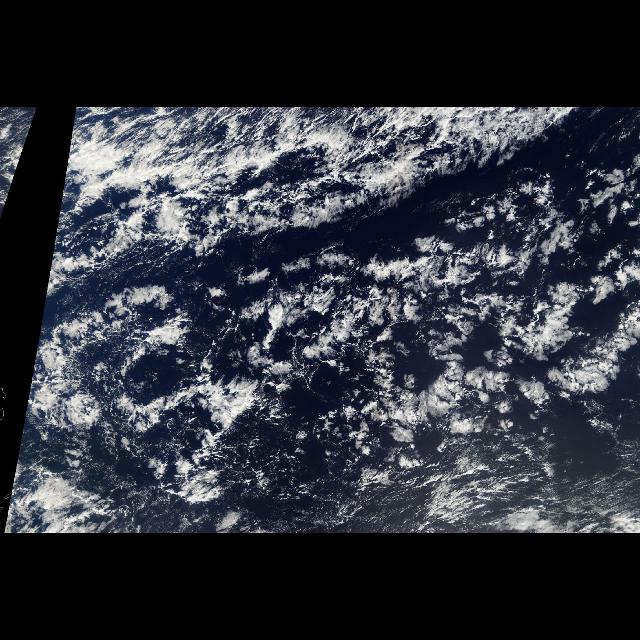Fish: (108, 198, 620, 508)
Flower: (276, 159, 632, 429)
